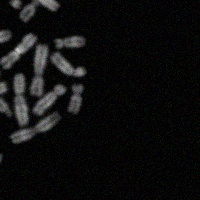chromosome: (9, 111, 60, 142), (0, 32, 36, 69), (32, 84, 65, 116), (30, 44, 47, 96), (50, 52, 86, 76), (19, 0, 58, 22), (13, 72, 28, 125), (68, 84, 83, 113), (24, 0, 59, 11), (55, 36, 86, 48), (0, 96, 12, 117), (0, 30, 12, 47), (0, 81, 6, 104), (9, 0, 21, 9), (0, 153, 2, 181), (0, 66, 1, 79)
